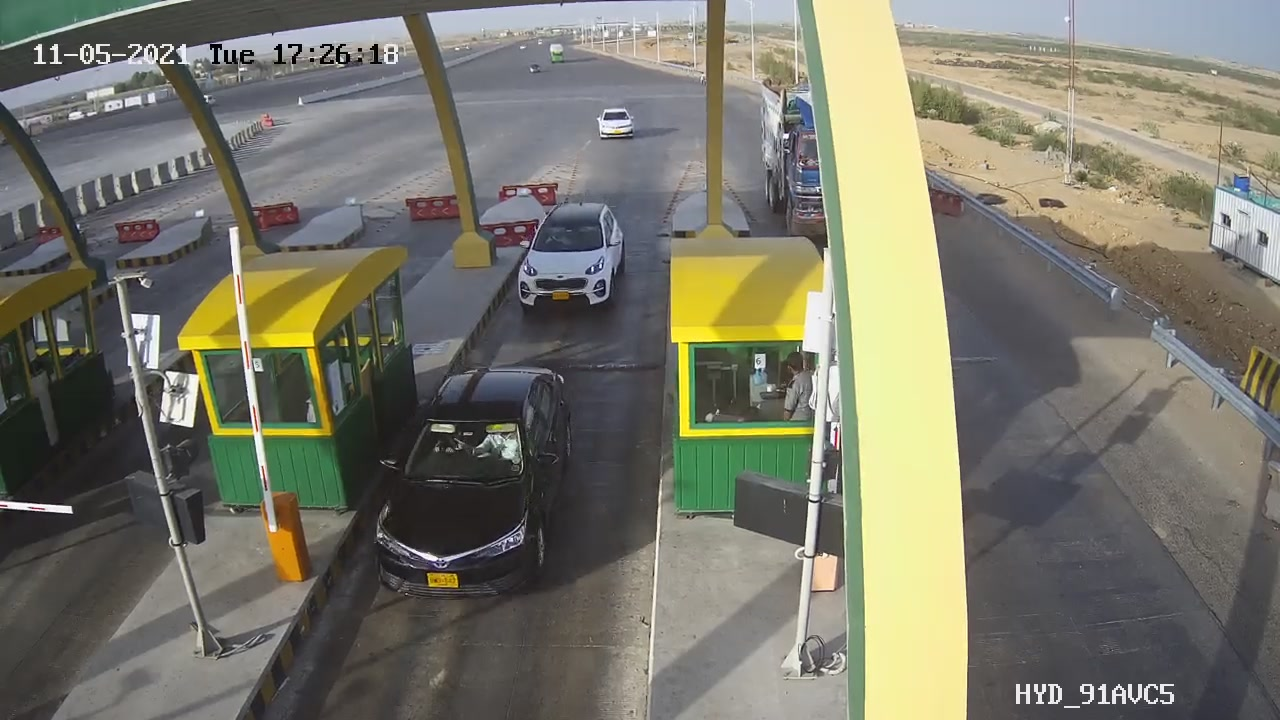F1: (355, 348, 598, 622), (501, 190, 644, 322)
